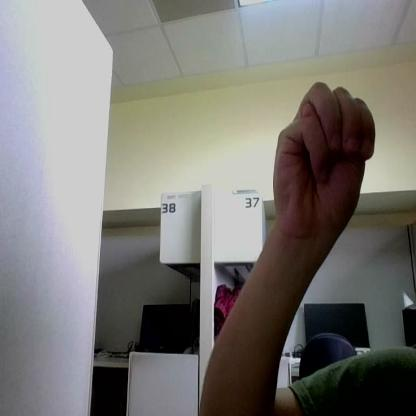M: (274, 80, 375, 230)
